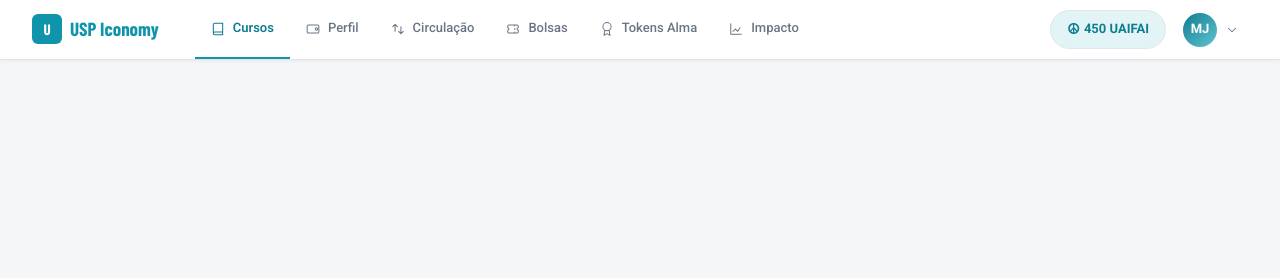
SiteHeader › names the role when there is no admin entry
The width and height of the screenshot is (1280, 278).
Click the button with aria-label "Menu da conta: Maria Joana" at [1213, 30], box [1178,8,1248,52]
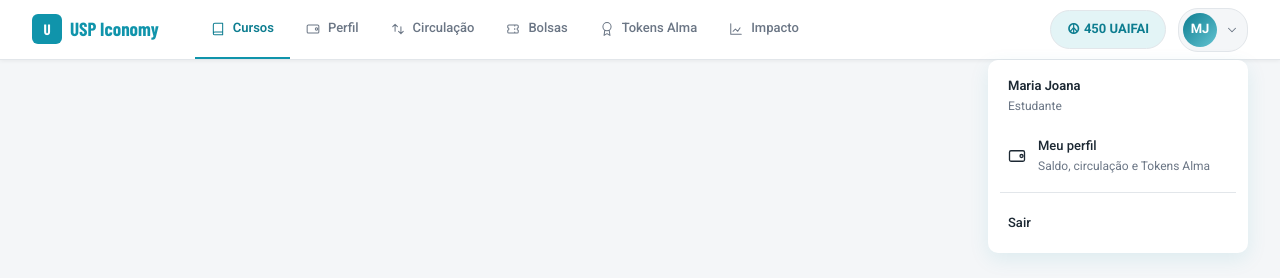
Check: the text "Estudante" is shown, box [1008,99,1062,113]
